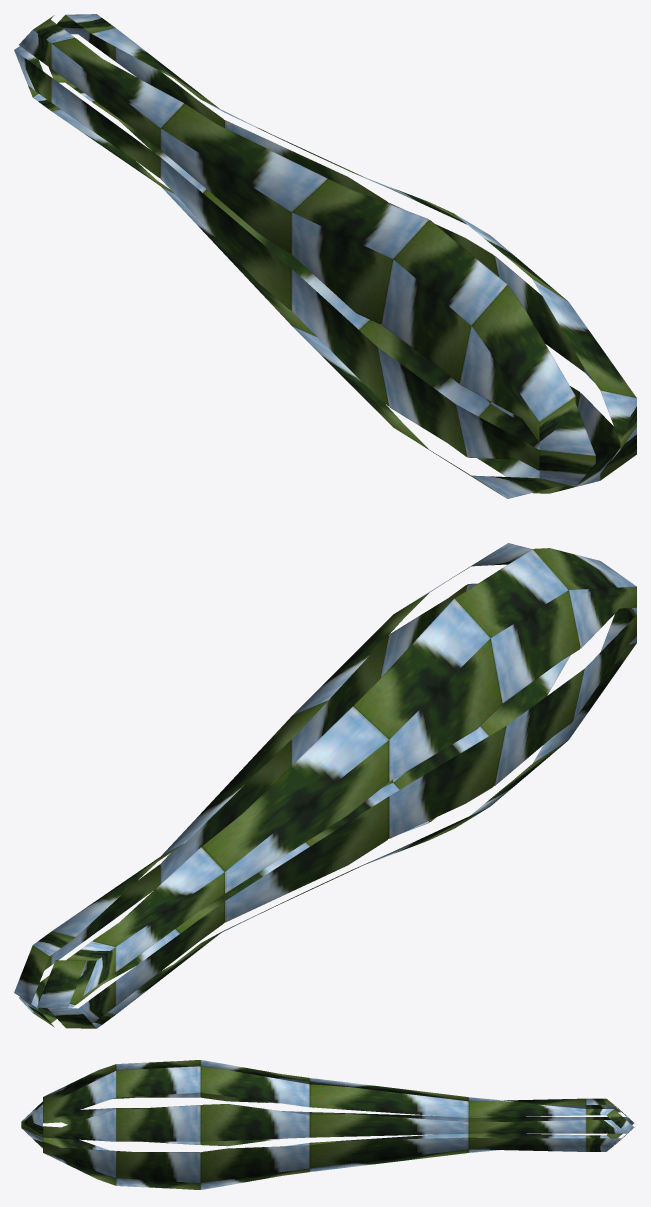
3 views of the same model, one above another, from view 1: azimuth 30°, elevation 25°; view 2: azimuth 150°, elevation 25°; view 3: azimuth 270°, elevation 25° (orthographic). The views are drawn at different scales.
Parts seen in each view (by area): view 1: T1L2M003_12; view 2: T1L2M003_12; view 3: T1L2M003_12.
Part boxes in pixels (<box>): T1L2M003_12: <box>14,14,636,498</box>; T1L2M003_12: <box>14,543,636,1028</box>; T1L2M003_12: <box>21,1060,635,1189</box>.
Bounding box in the file's own units: 0.1592 × 0.2959 × 1.24.
